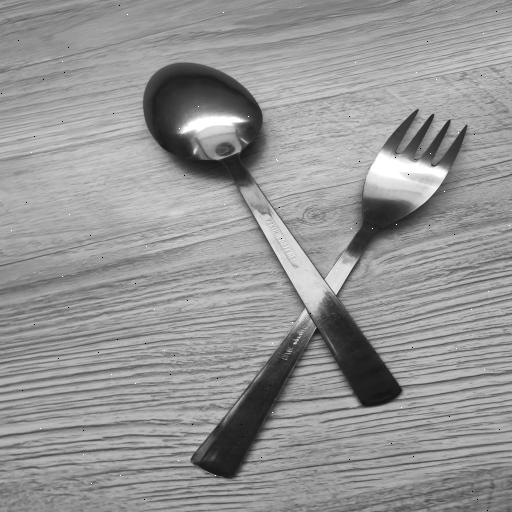fork: (188, 105, 464, 473)
spoon: (140, 58, 404, 406)
